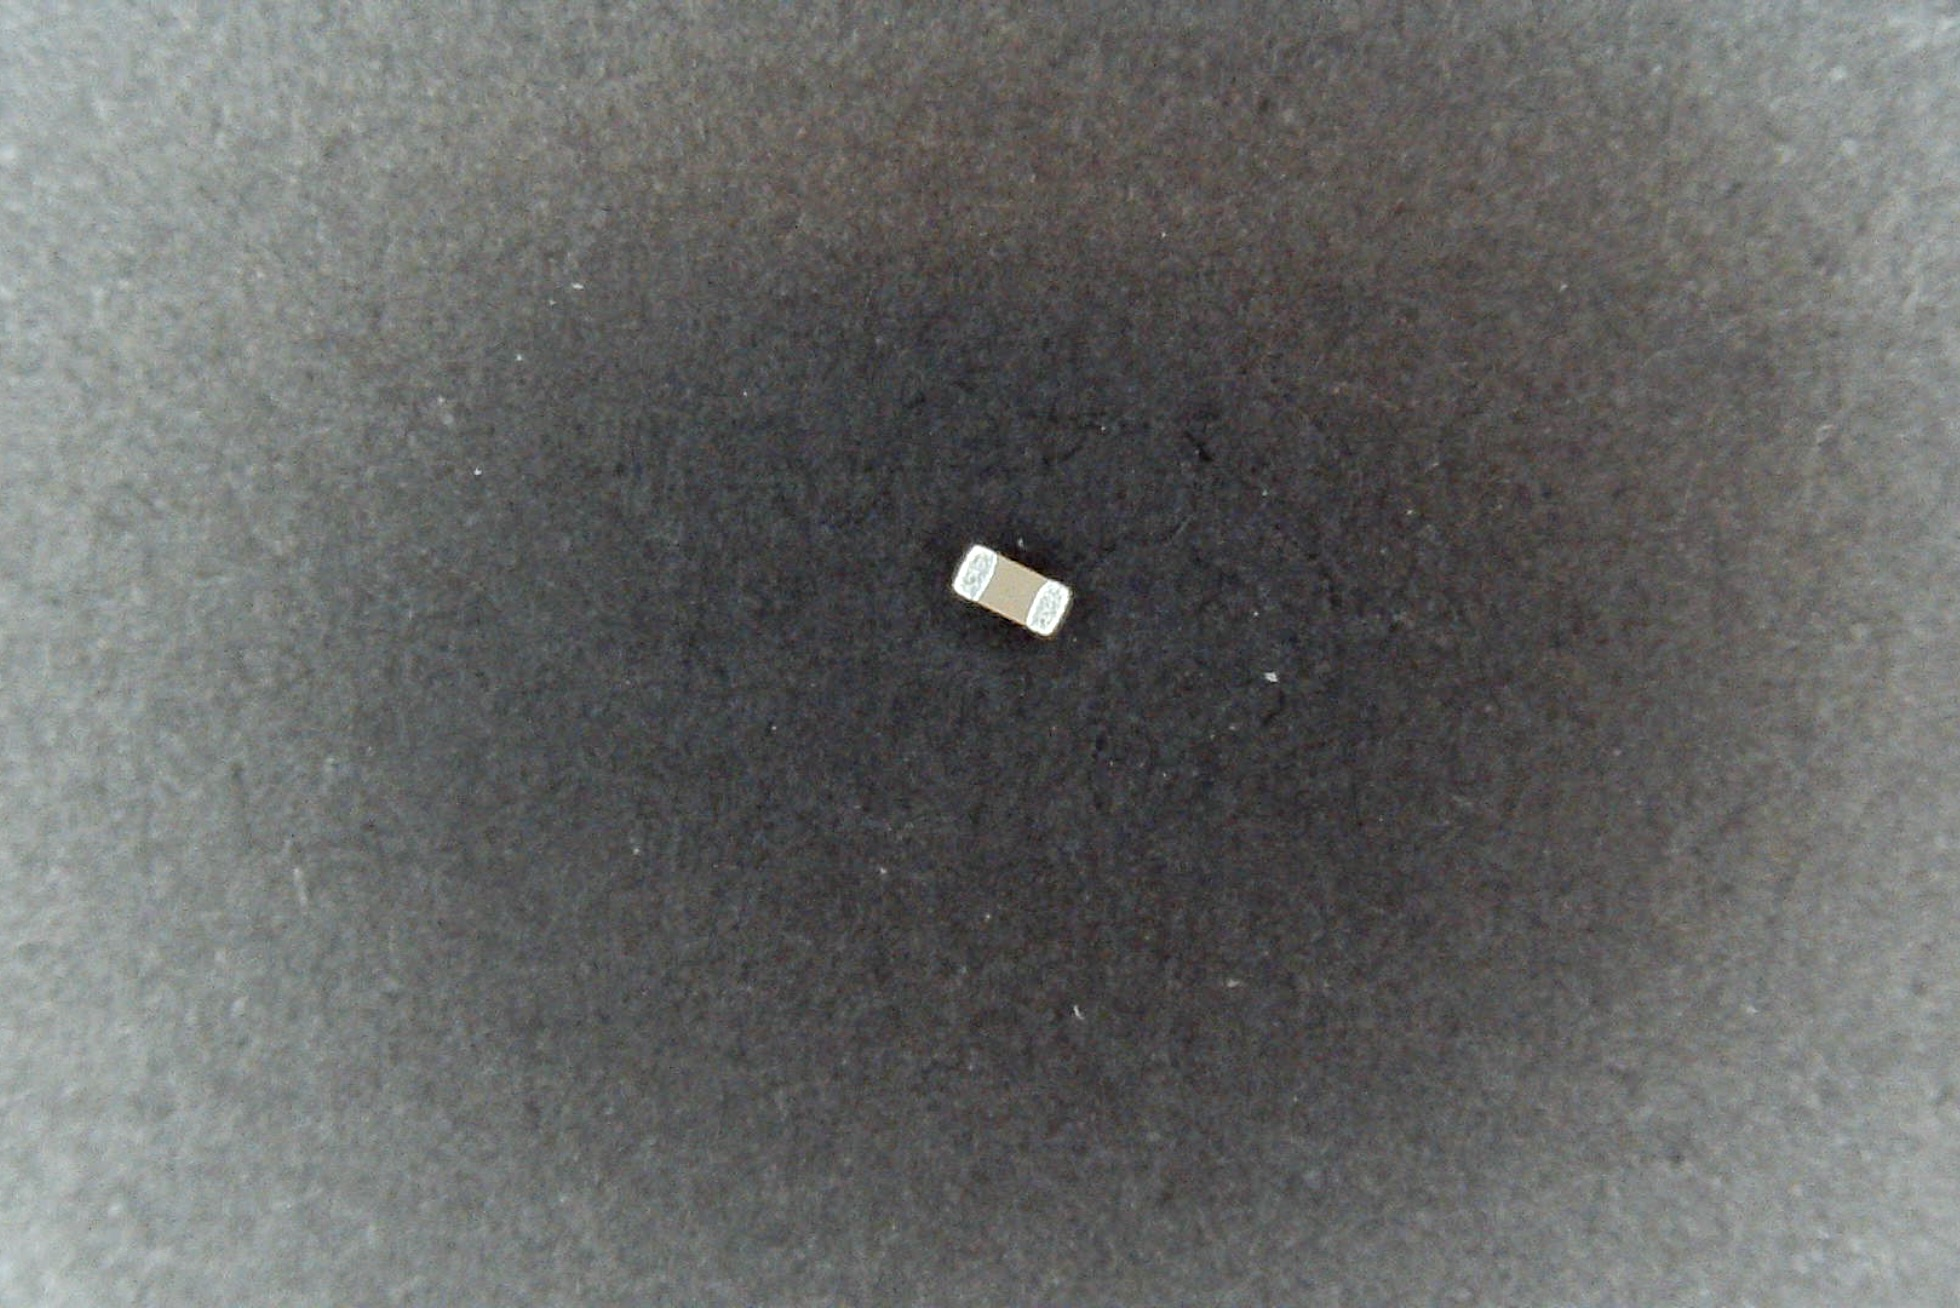bbox: (941, 539, 1084, 644)
